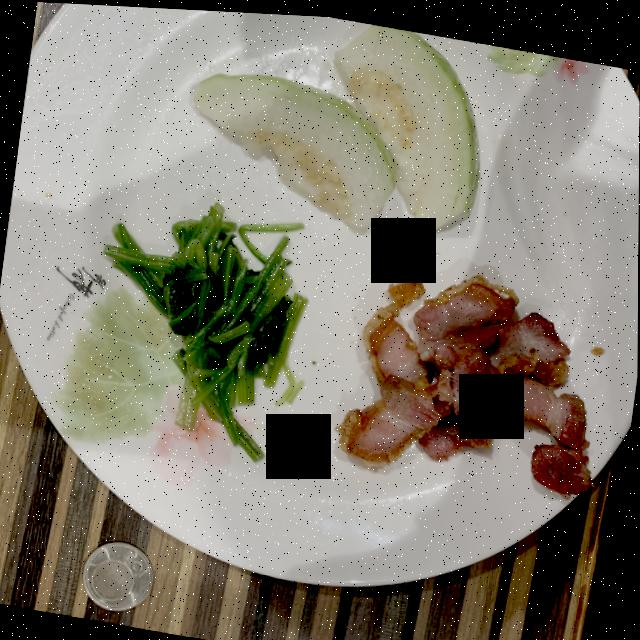coin: (83, 539, 154, 608)
guava -sliced-: (194, 19, 479, 231)
mustard greens: (103, 200, 307, 458)
red grilled pork: (338, 262, 592, 490)
